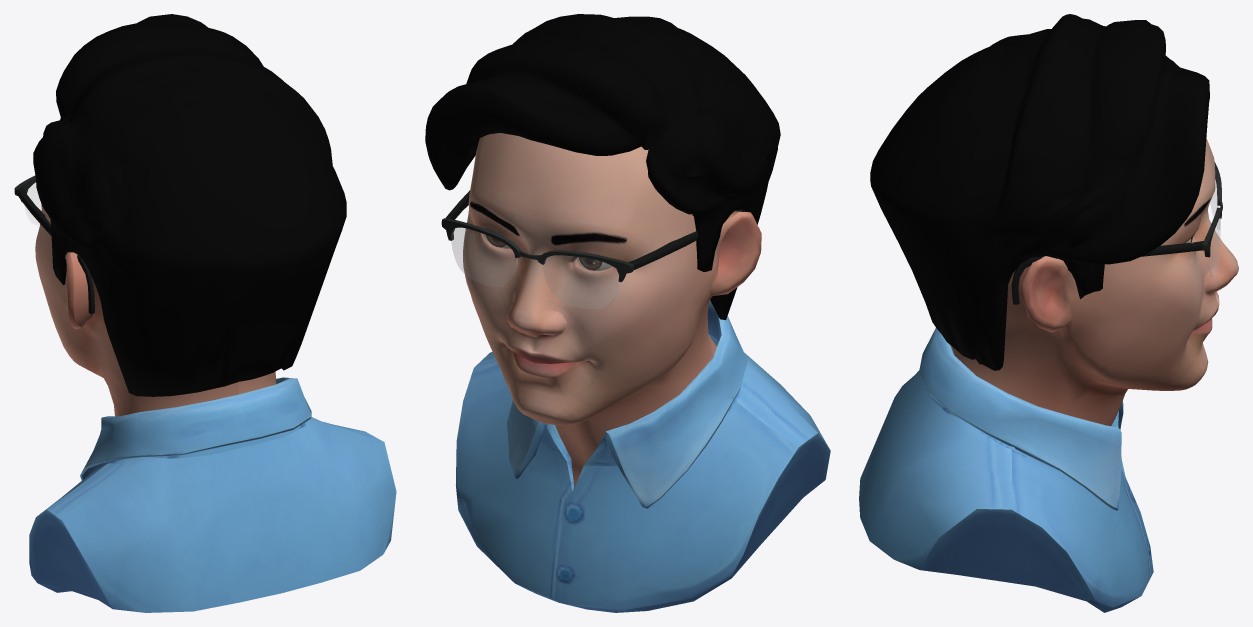
The model's file is masculine_body.glb.
3 views of the same model, side by side, from view 1: azimuth 30°, elevation 25°; view 2: azimuth 150°, elevation 25°; view 3: azimuth 270°, elevation 25° (orthographic). The views are drawn at different scales.
Visible parts, largest first — view 1: Wolf3D_Hair, Wolf3D_Shirt, Wolf3D_Head, Wolf3D_Glasses; view 2: Wolf3D_Shirt, Wolf3D_Head, Wolf3D_Hair, Wolf3D_Glasses; view 3: Wolf3D_Hair, Wolf3D_Shirt, Wolf3D_Head, Wolf3D_Glasses.
Boxes of the visible parts, box(x1,y1,x2,y2) form: Wolf3D_Hair: box(33, 14, 346, 396); Wolf3D_Shirt: box(29, 377, 396, 612); Wolf3D_Head: box(35, 204, 276, 416); Wolf3D_Glasses: box(14, 175, 94, 314); Wolf3D_Shirt: box(456, 300, 830, 612); Wolf3D_Head: box(463, 133, 761, 486); Wolf3D_Hair: box(425, 14, 780, 320); Wolf3D_Glasses: box(441, 190, 746, 308); Wolf3D_Hair: box(870, 14, 1209, 370); Wolf3D_Shirt: box(859, 328, 1153, 612); Wolf3D_Head: box(951, 138, 1238, 426); Wolf3D_Glasses: box(1011, 162, 1222, 304).
Size of the model in its own units: 0.9249 by 1.5 by 0.9462.
Materials: 6 (6 with a texture image).
